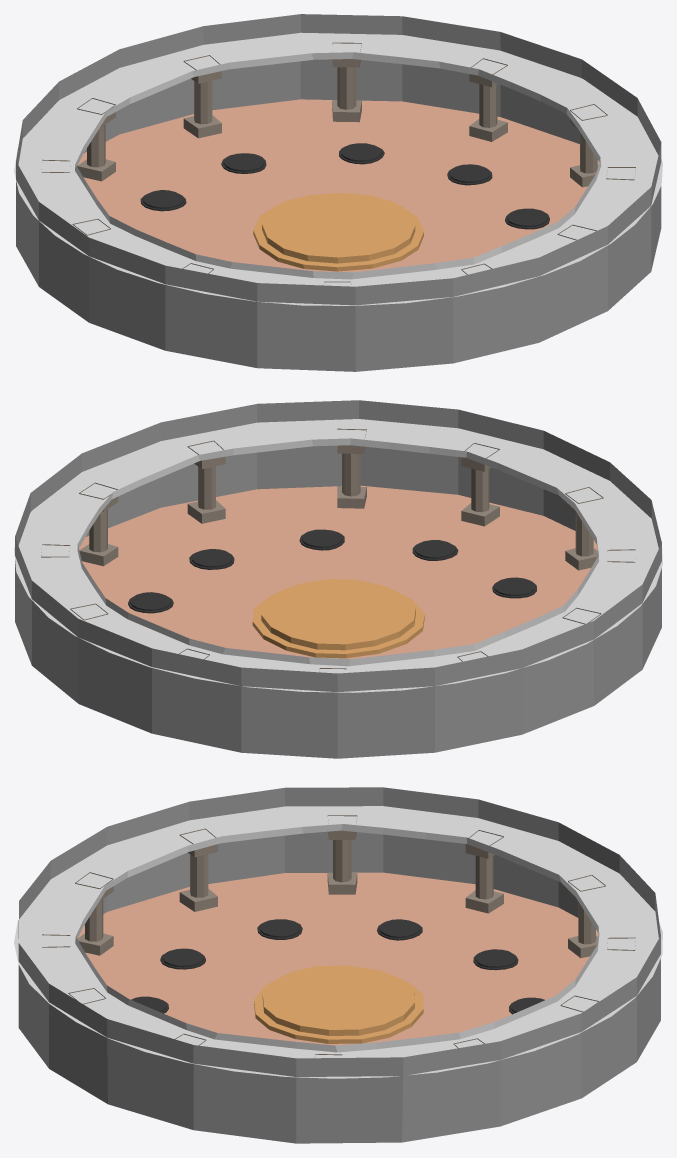
The model's file is map.glb.
3 renders of one model, top to bottom at view 1: azimuth 30°, elevation 25°; view 2: azimuth 150°, elevation 25°; view 3: azimuth 270°, elevation 25°, orthographic.
Visible parts, largest first — view 1: arena, roof Remeshed, main_platform, pillars, platforms; view 2: arena, roof Remeshed, main_platform, pillars, platforms; view 3: arena, roof Remeshed, main_platform, pillars, platforms.
Boxes of the visible parts, x1=… form: arena: x1=16, y1=14, x2=661, y2=371; roof Remeshed: x1=14, y1=32, x2=662, y2=305; main_platform: x1=253, y1=193, x2=423, y2=271; pillars: x1=41, y1=42, x2=635, y2=284; platforms: x1=140, y1=143, x2=549, y2=229; arena: x1=15, y1=400, x2=661, y2=758; roof Remeshed: x1=14, y1=419, x2=662, y2=692; main_platform: x1=252, y1=579, x2=424, y2=658; pillars: x1=41, y1=428, x2=635, y2=671; platforms: x1=128, y1=529, x2=536, y2=613; arena: x1=18, y1=787, x2=660, y2=1143; roof Remeshed: x1=14, y1=806, x2=662, y2=1078; main_platform: x1=254, y1=965, x2=423, y2=1043; pillars: x1=42, y1=815, x2=635, y2=1057; platforms: x1=131, y1=919, x2=544, y2=1014.
Size of the model in its own units: 69.03 by 10.35 by 69.
